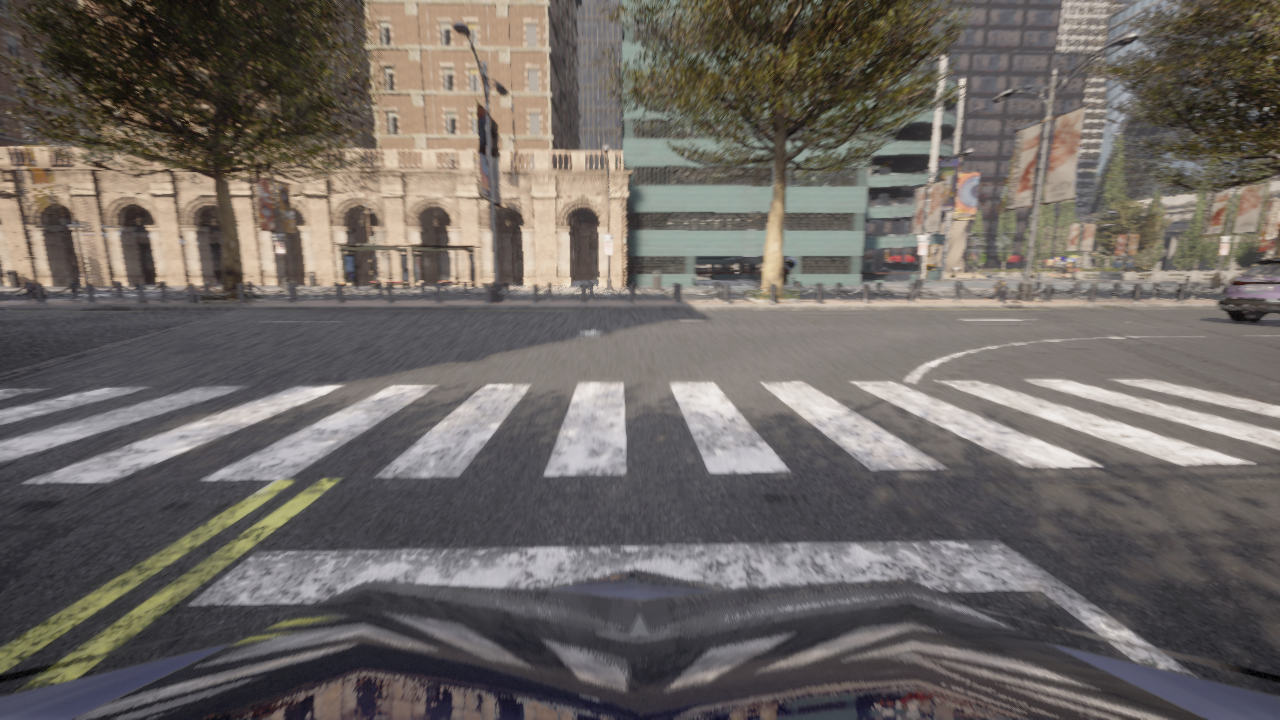cyclist: (0, 569, 1279, 719), (1217, 258, 1279, 322), (634, 266, 652, 272), (663, 269, 669, 272), (805, 271, 807, 272)
